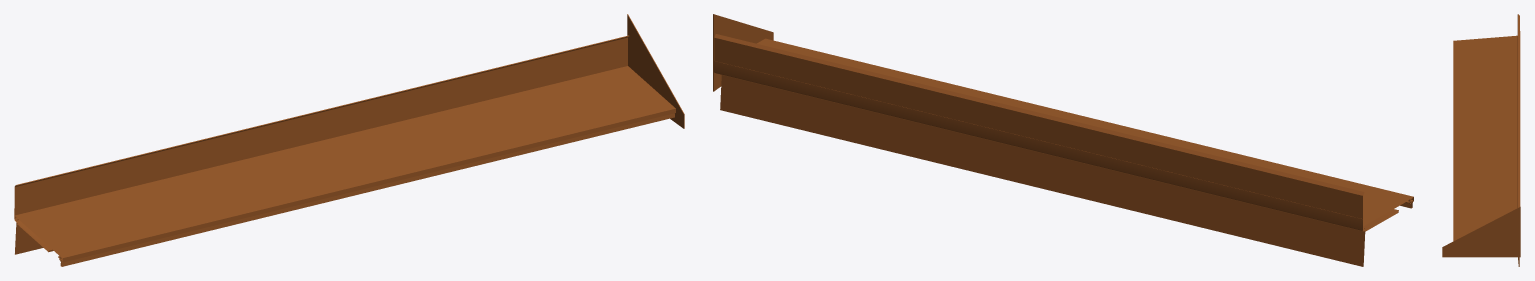
Rendered from wandmetall_end.FBX.
3 views of the same model, side by side, from view 1: azimuth 30°, elevation 25°; view 2: azimuth 150°, elevation 25°; view 3: azimuth 270°, elevation 25° (orthographic). The views are drawn at different scales.
Parts seen in each view (by area): view 1: wandmetall_end; view 2: wandmetall_end; view 3: wandmetall_end.
Boxes of the visible parts, x1,y1,x2,y2 form: wandmetall_end: [14, 14, 684, 266]; wandmetall_end: [713, 14, 1413, 266]; wandmetall_end: [1442, 14, 1520, 266].
Bounding box in the file's own units: 8.76 × 1.23 × 1.4.
